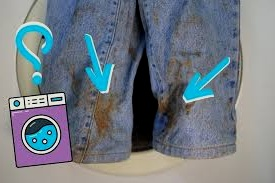earth: (93, 99, 113, 134), (160, 96, 176, 128)
